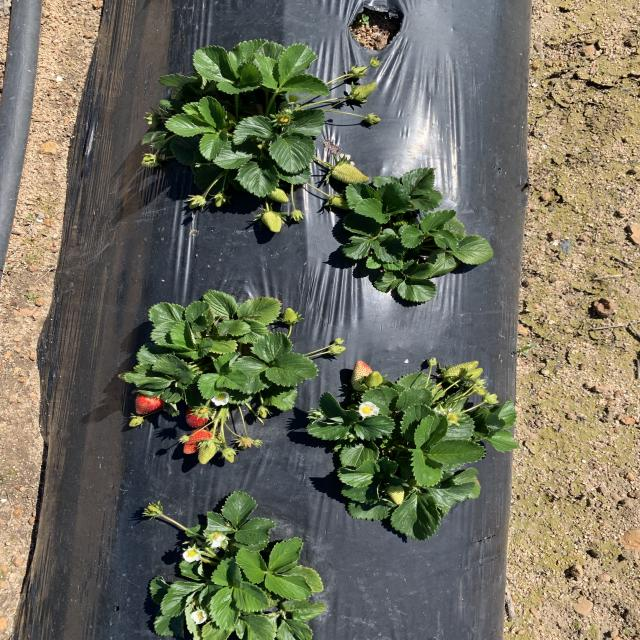unripe: (180, 428, 217, 456), (134, 390, 163, 415), (185, 407, 213, 427)
